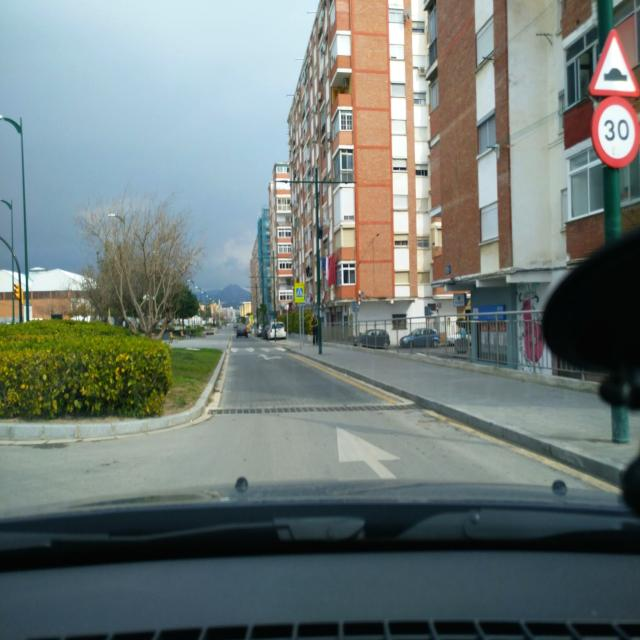car: (399, 327, 441, 348), (352, 328, 390, 349), (268, 322, 286, 341), (236, 324, 248, 338)
